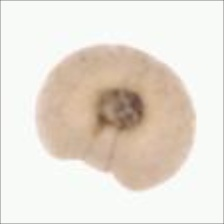L5: (95, 86, 151, 133)
L6: (31, 41, 198, 196)
